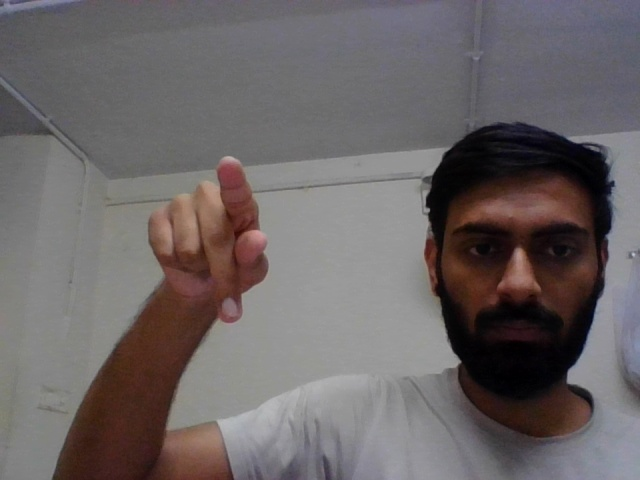P: (138, 150, 274, 331)
